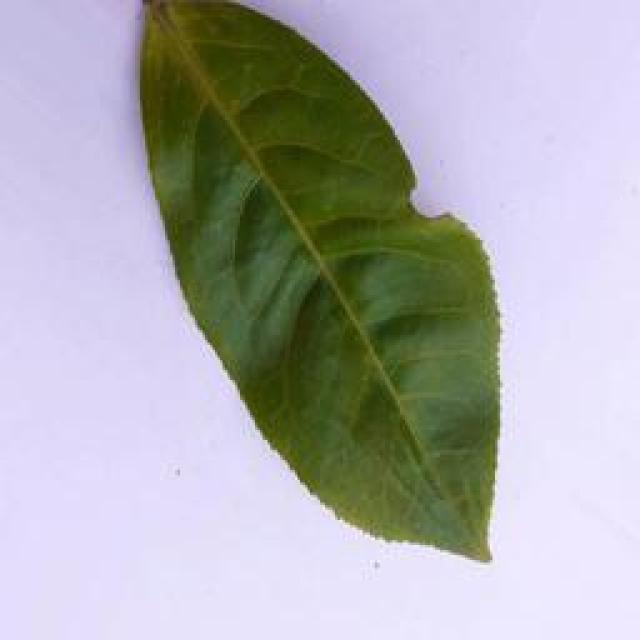Healthy: (123, 0, 515, 588)
